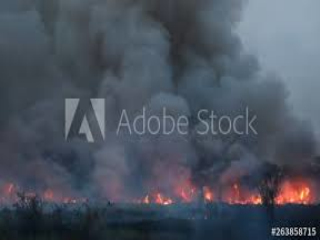fire: (136, 177, 269, 211), (275, 180, 318, 208)
